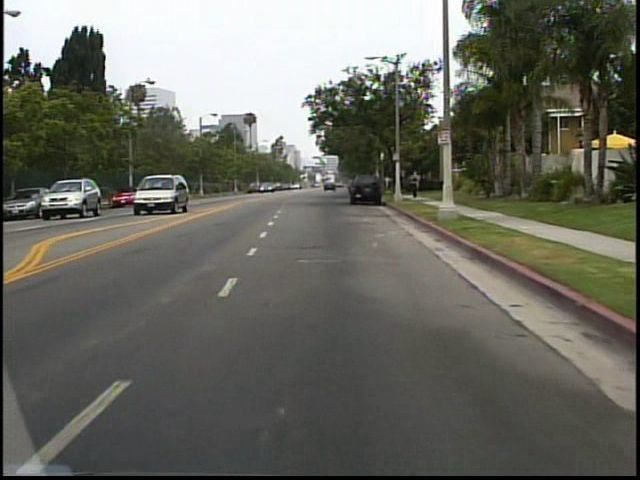person: (410, 169, 424, 202), (411, 172, 418, 202)
